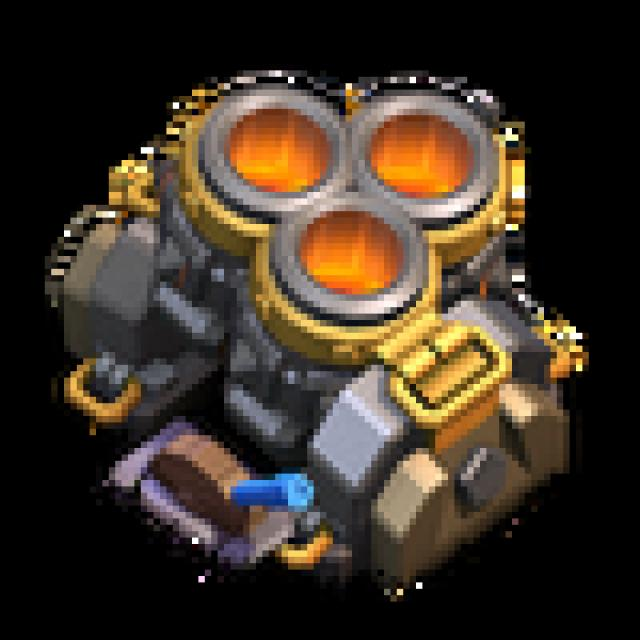mortar: (46, 39, 615, 616)
